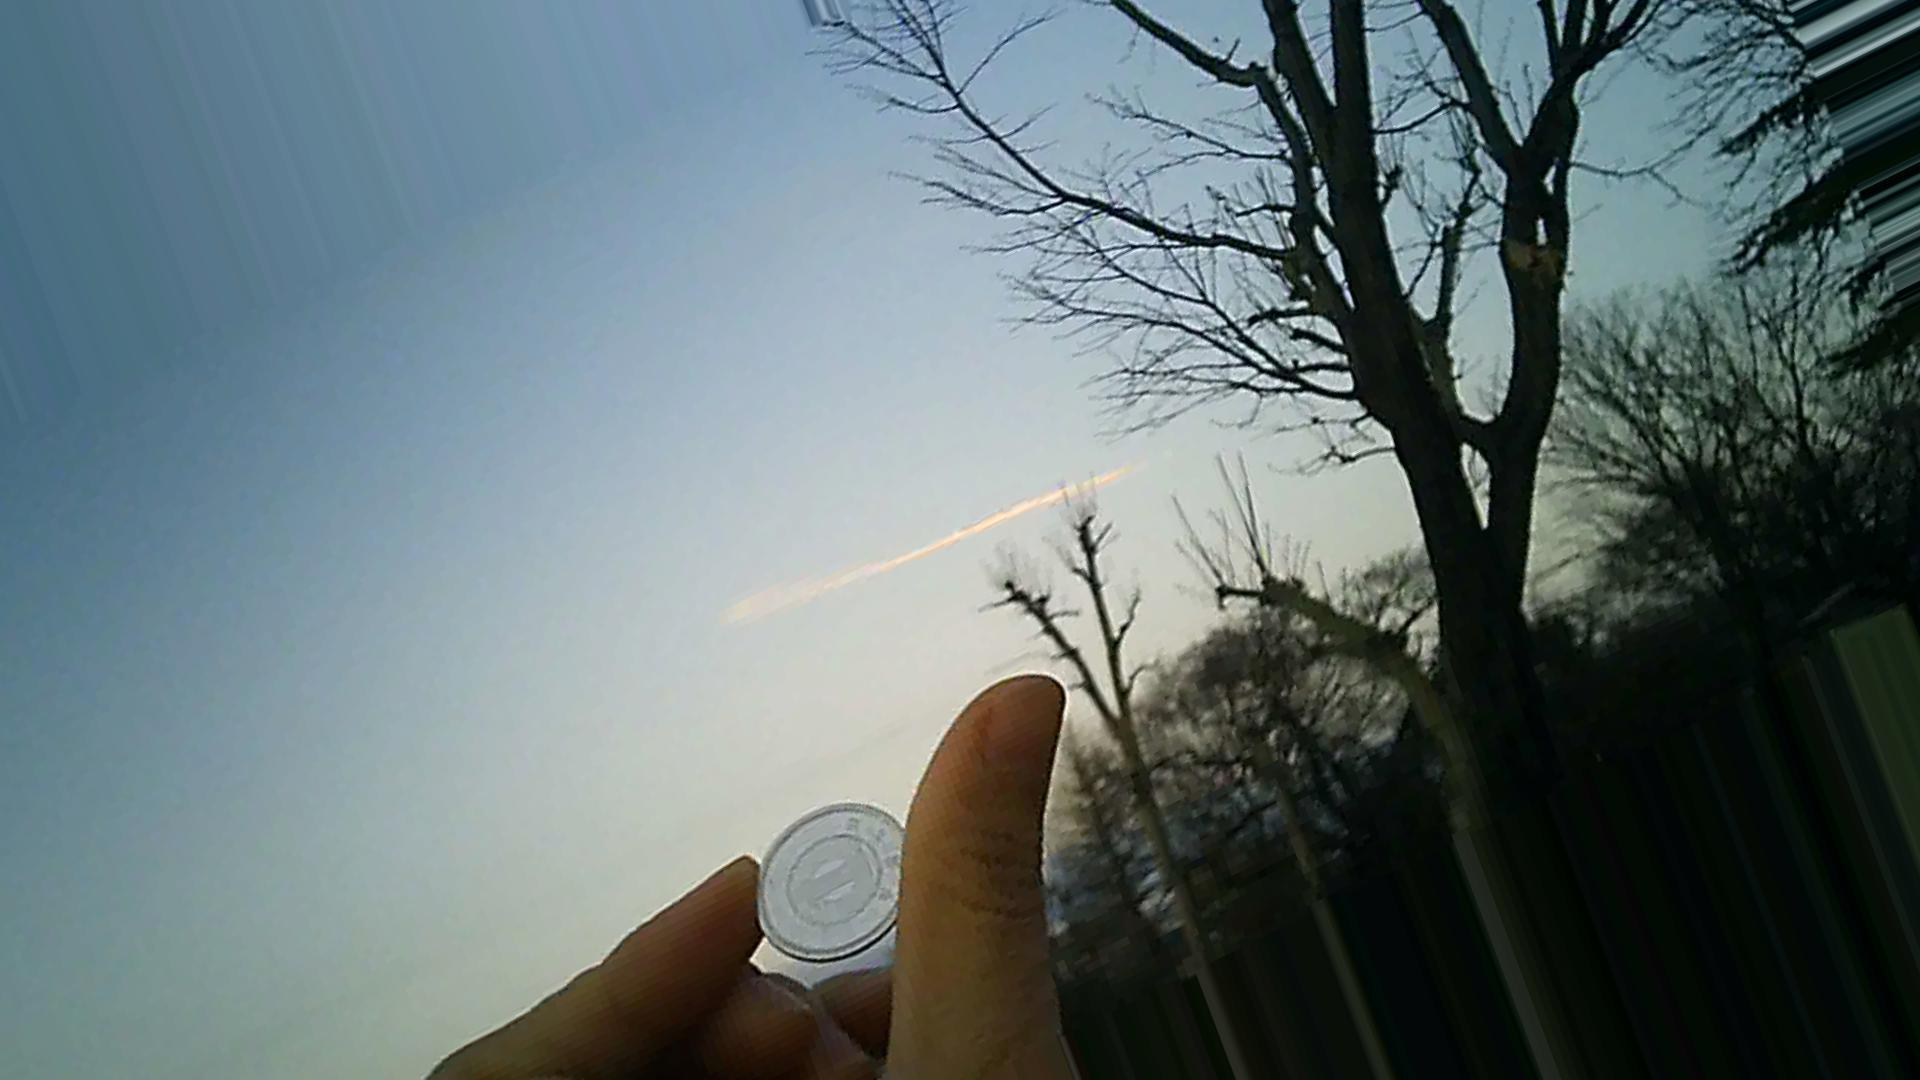1 Yen: (742, 793, 920, 961)
